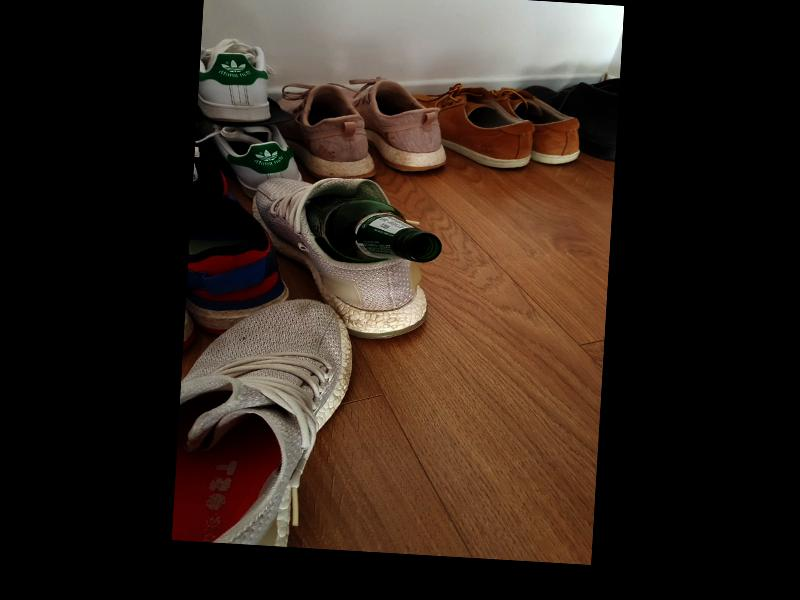Beer: (304, 193, 444, 265)
